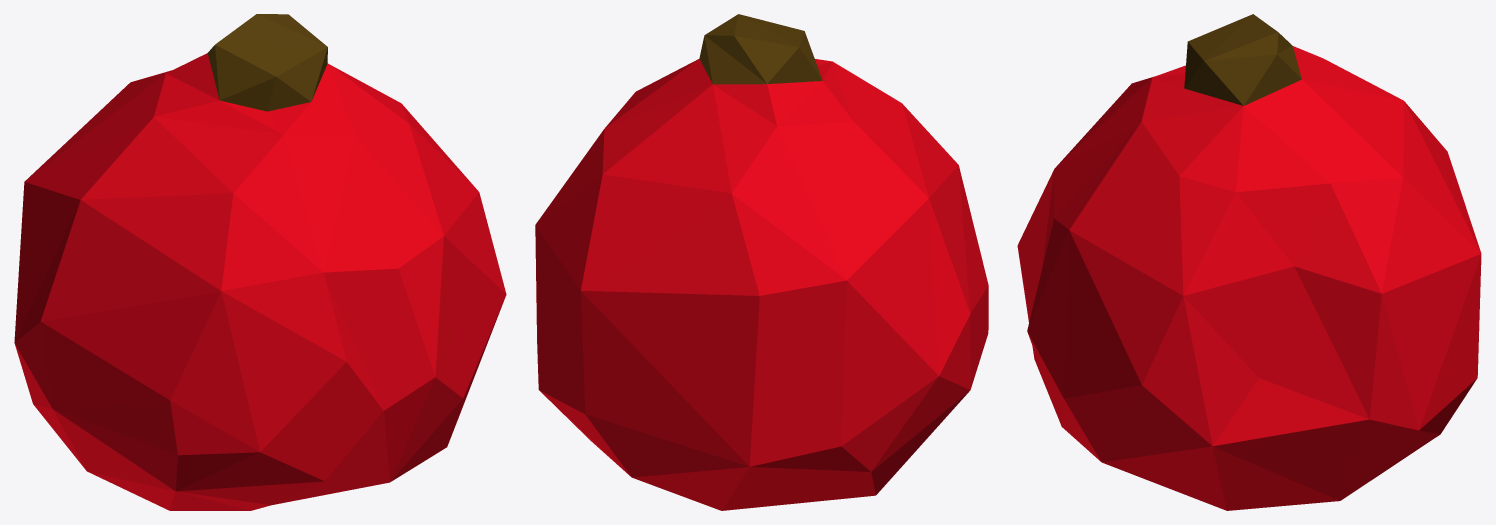
File: Seedpod1.glb
3 renders of one model, left to right at view 1: azimuth 30°, elevation 25°; view 2: azimuth 150°, elevation 25°; view 3: azimuth 270°, elevation 25°, orthographic. The views are drawn at different scales.
Visible parts, largest first — view 1: Seedpod1; view 2: Seedpod1; view 3: Seedpod1.
Part boxes in pixels (box(x1,y1,x2,y2)): Seedpod1: box(14, 14, 506, 510); Seedpod1: box(535, 14, 988, 510); Seedpod1: box(1017, 14, 1481, 510).
Bounding box in the file's own units: 1.2 × 1.26 × 1.18.
2 materials, 1 textured.
